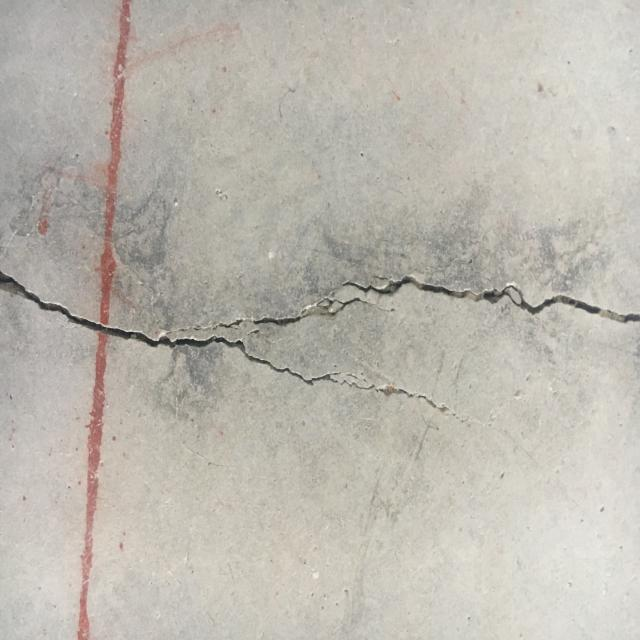Rachadura: (0, 265, 640, 423)
